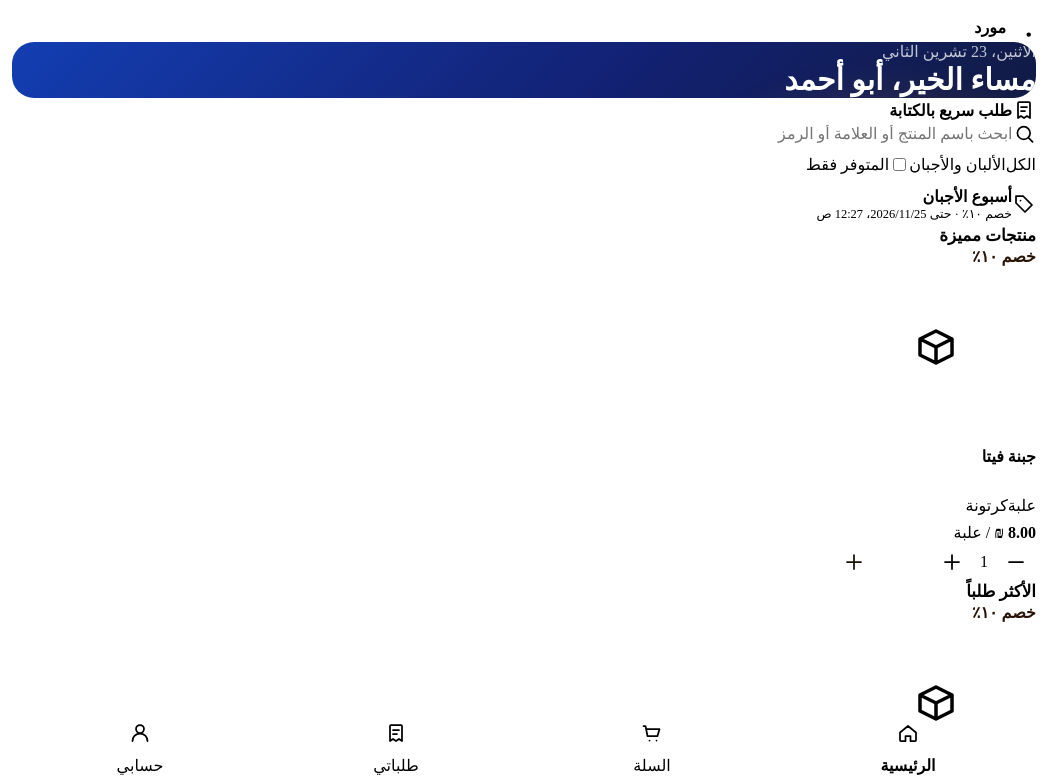
Scenario: الرئيسية والعروض › تعرض العروض والمميزة والأكثر طلباً، والسلة تحسب الخصم كالخادم فيرسل الإجمالي الصحيح
Later steps or results of the test are not shown.
Expected: the element "منتجات مميزة" is shown, [836,226,1036,582]
Expected: the text "خصم ١٠٪ · حتى 25 /11 /2026، 12:27 ص" is shown, [816,206,1012,222]
Click the button "أسبوع الأجبان خصم ١٠٪ · حتى 25 /11 /2026، 12:27 ص" at (926, 204), box [816,182,1036,226]
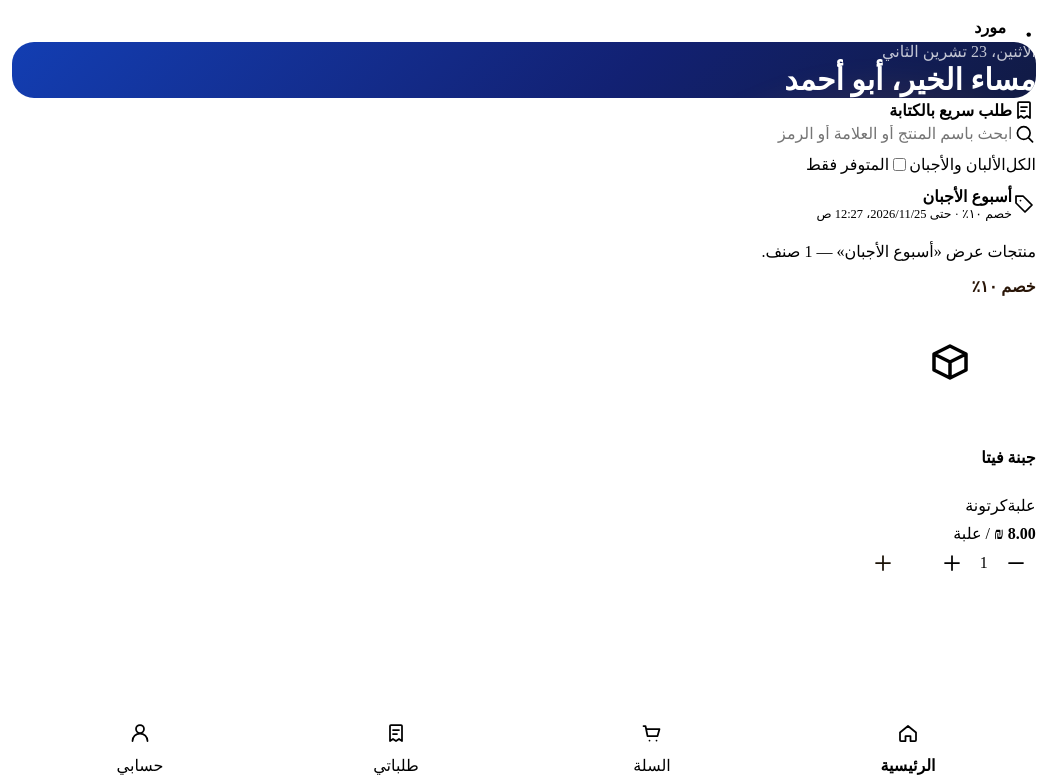
Now the heading "منتجات مميزة" is gone
Click the button named "أضف جبنة فيتا إلى السلة" at (883, 563), box [865,550,901,576]
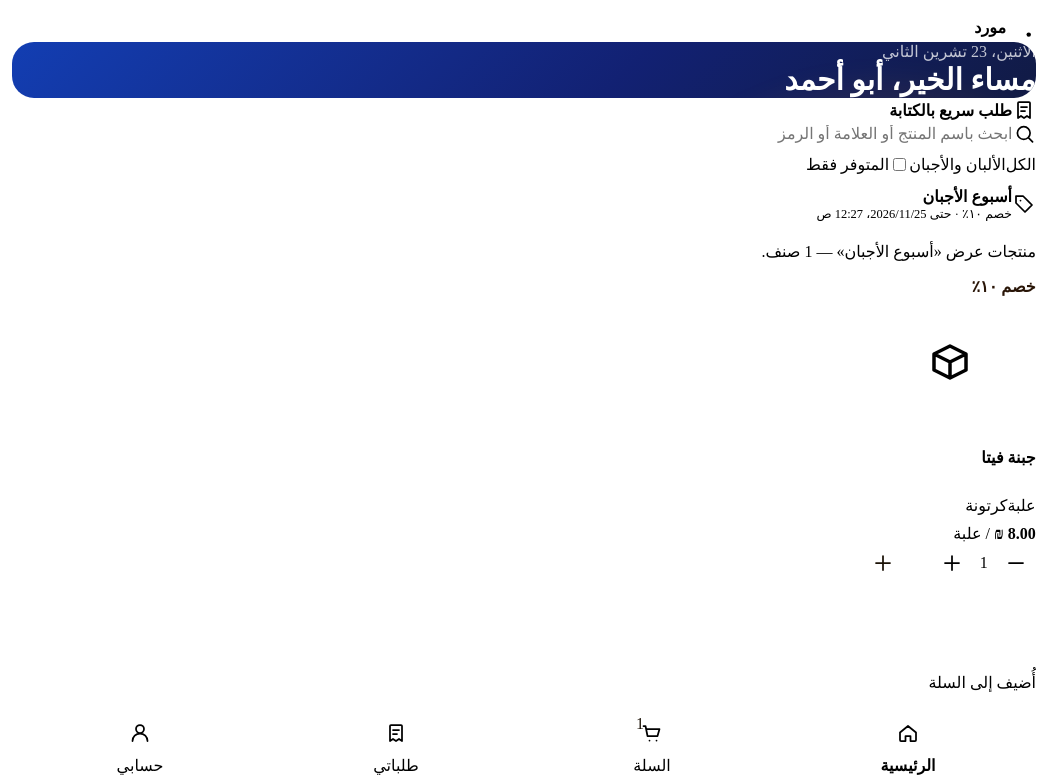
Click the button "1 السلة" at (652, 748), box [524,716,780,779]
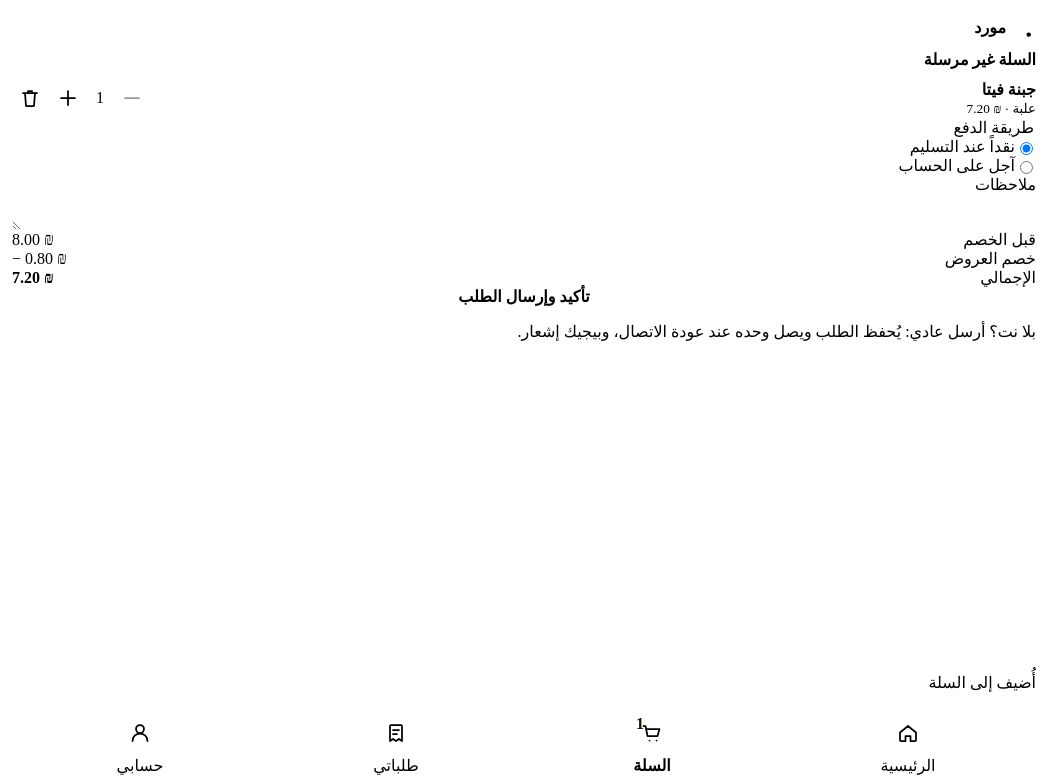
Now the text "خصم العروض" is shown, box [945,249,1036,268]
